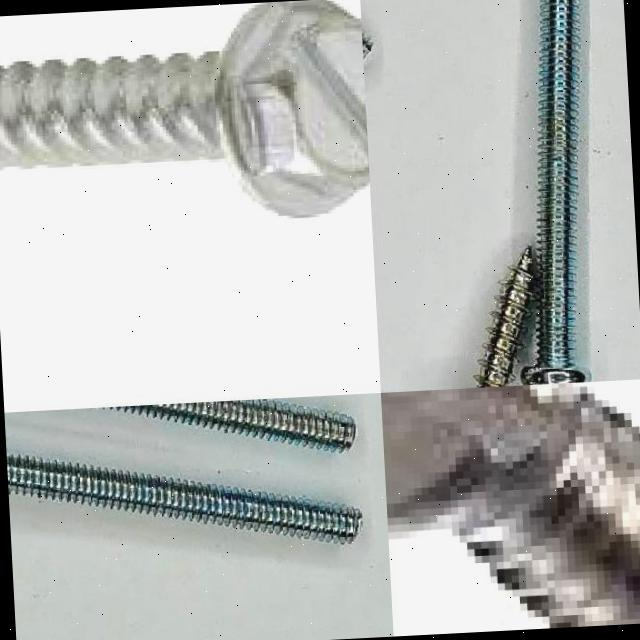Screw: (0, 0, 370, 220), (381, 383, 640, 628), (7, 455, 363, 544), (522, 0, 591, 385), (109, 399, 357, 452), (476, 248, 534, 388)
